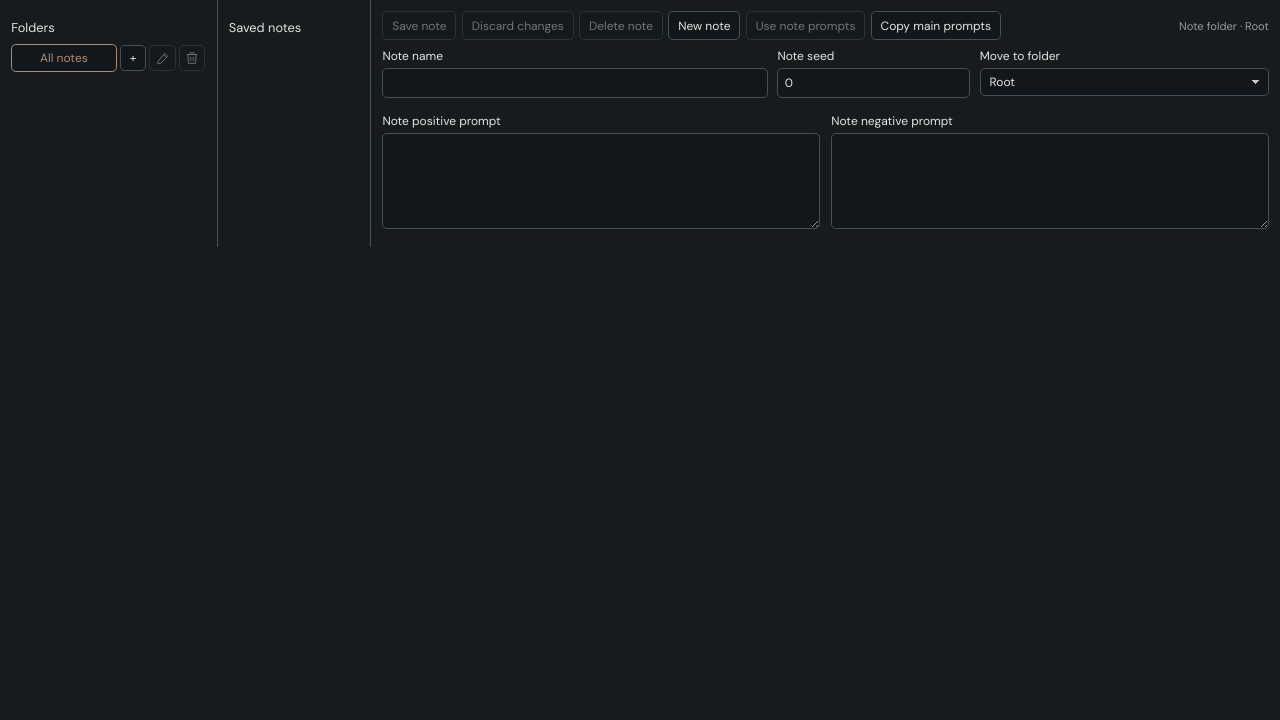
Test: creates nested folders and manually saves prompts/seed across restart; confirmed folder deletion includes descendants
Later steps or results of the test are not shown.
Click the button named "New folder": click(133, 58) [120,45,146,71]
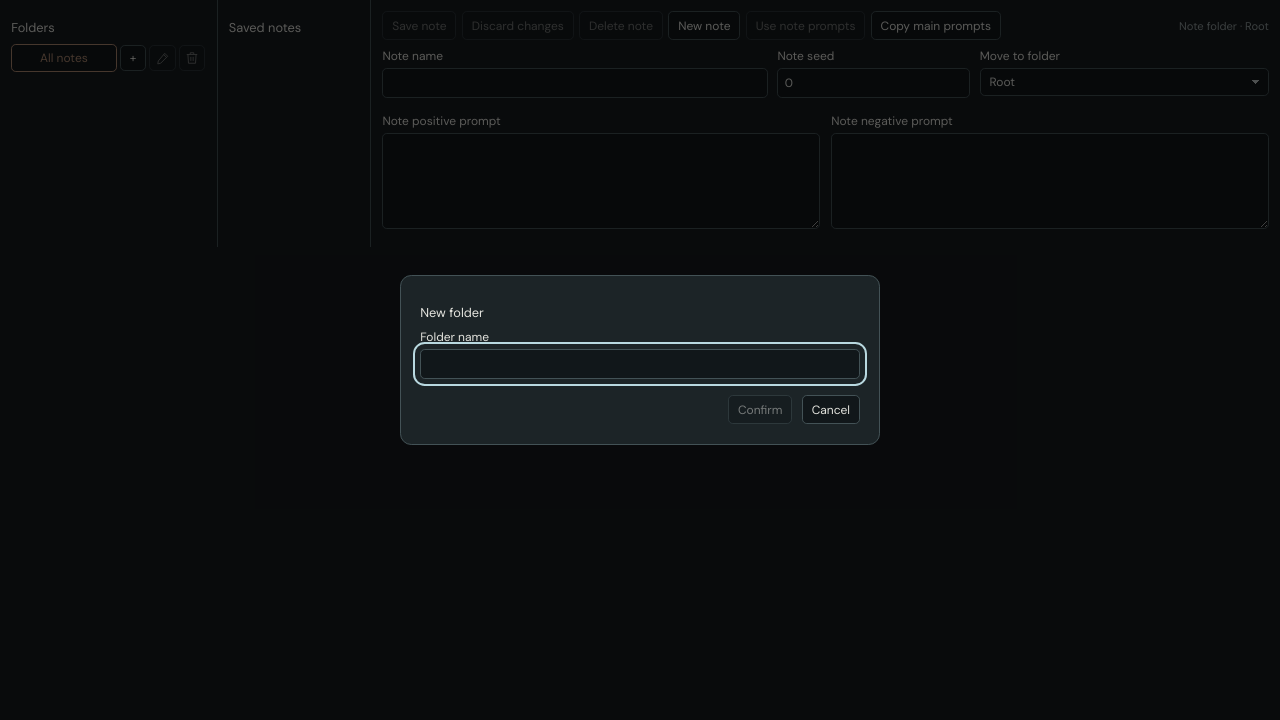
In the field labelled "Folder name": (640, 364) [420,348,860,379], type "Characters"
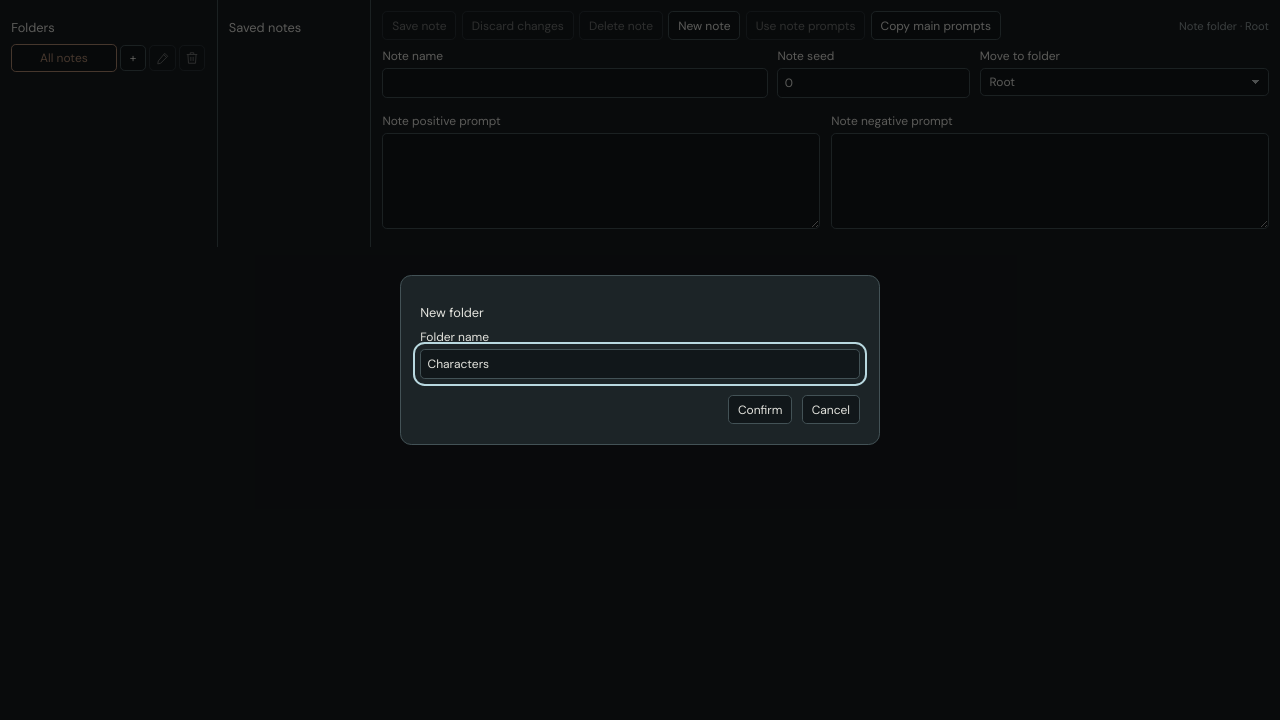
Click the button "Confirm": click(760, 410) [728,395,792,424]
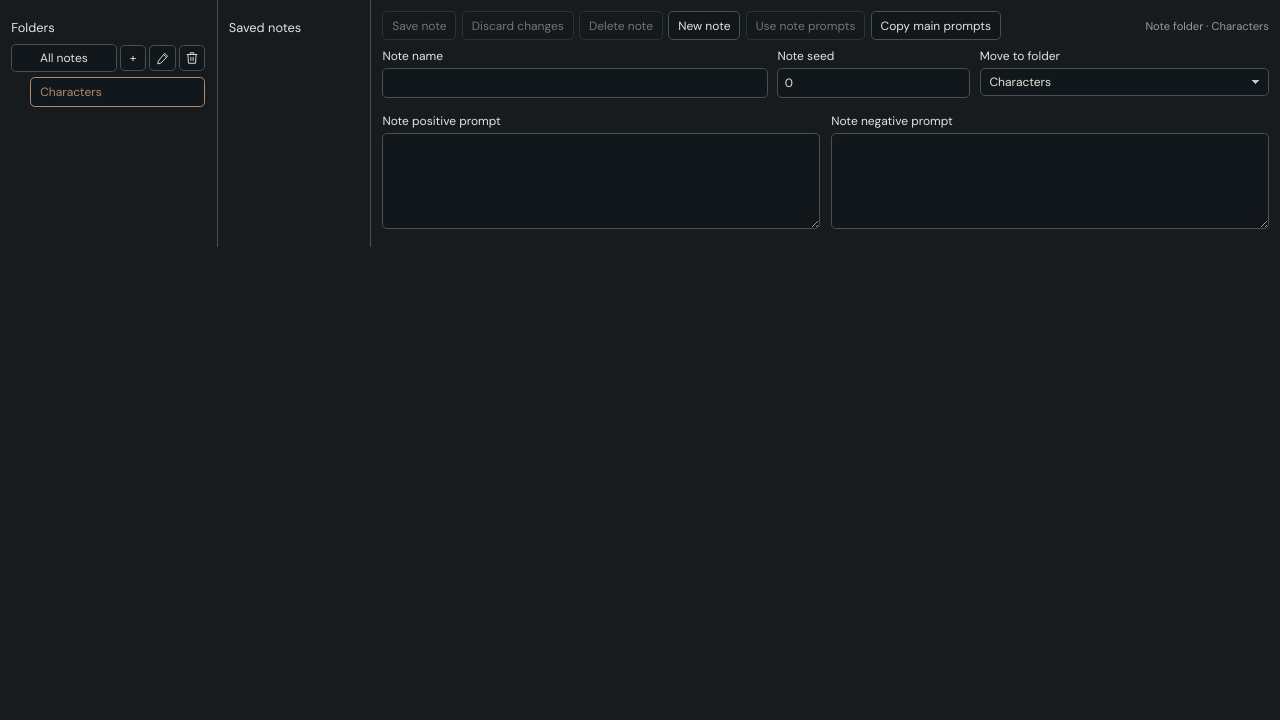
Click the button named "New folder": click(133, 58) [120,45,146,71]
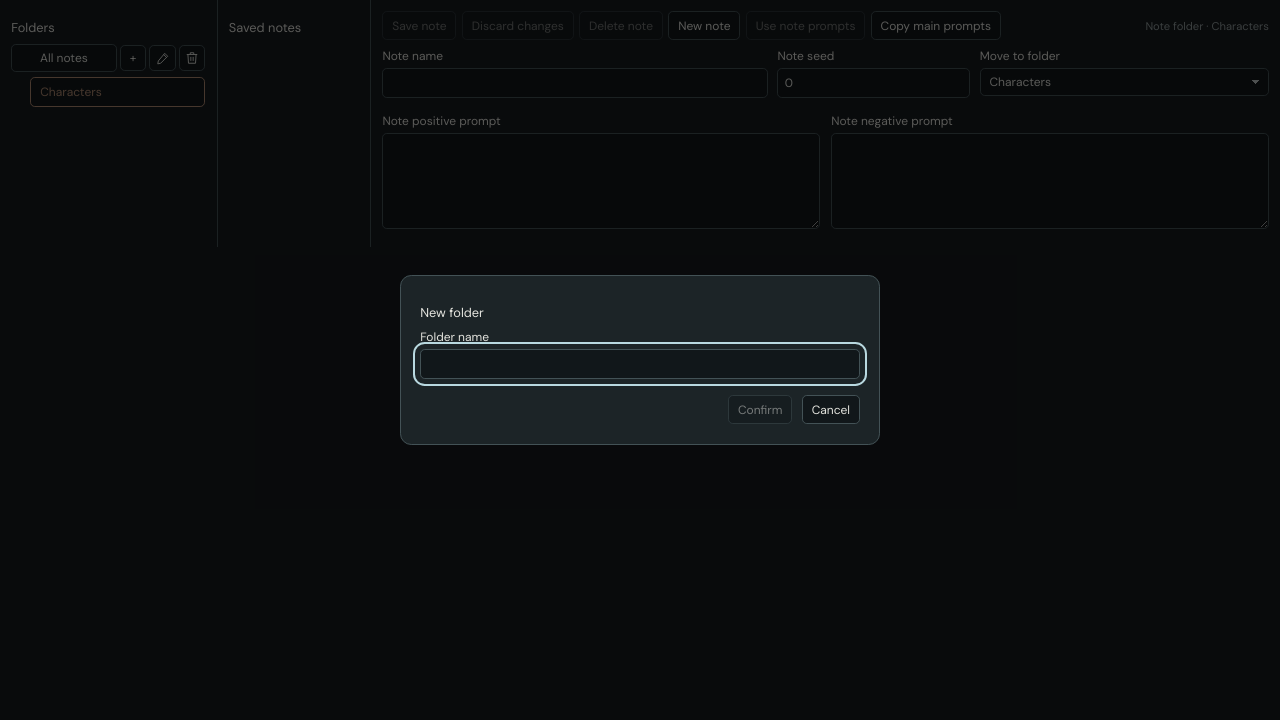
In the field labelled "Folder name": (640, 364) [420,348,860,379], type "Anima"
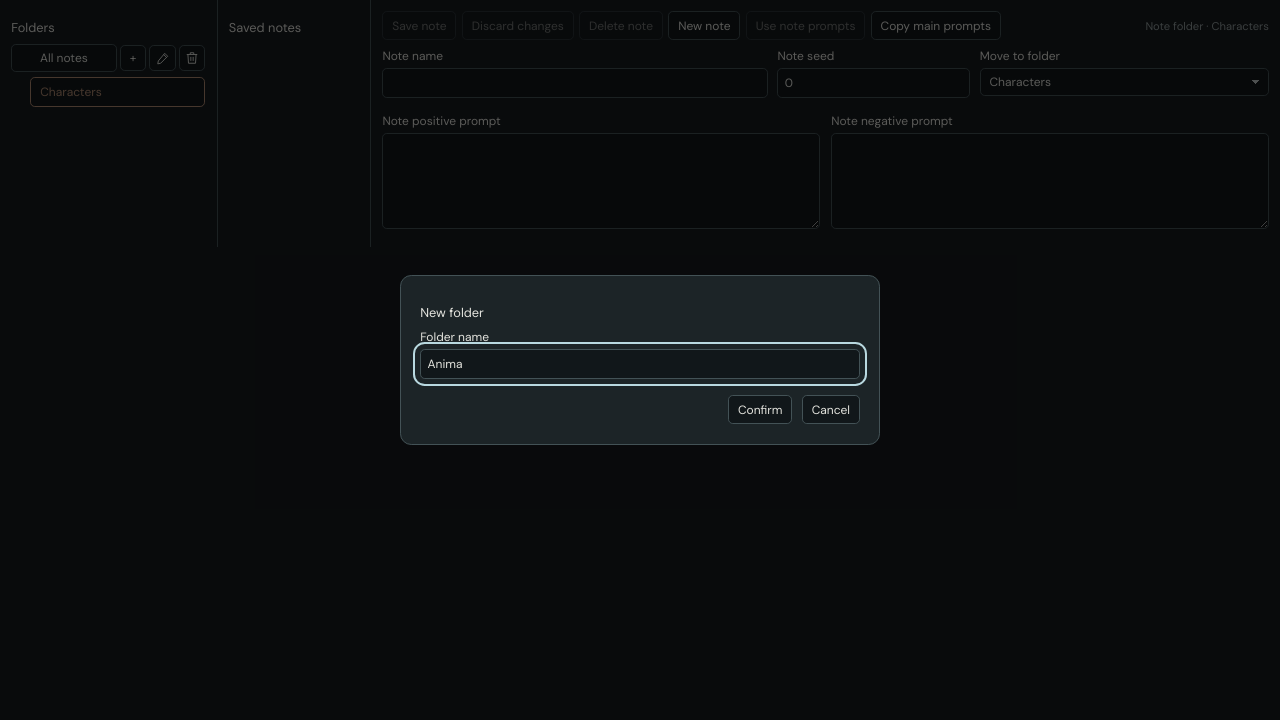
Click the button "Confirm": click(760, 410) [728,395,792,424]
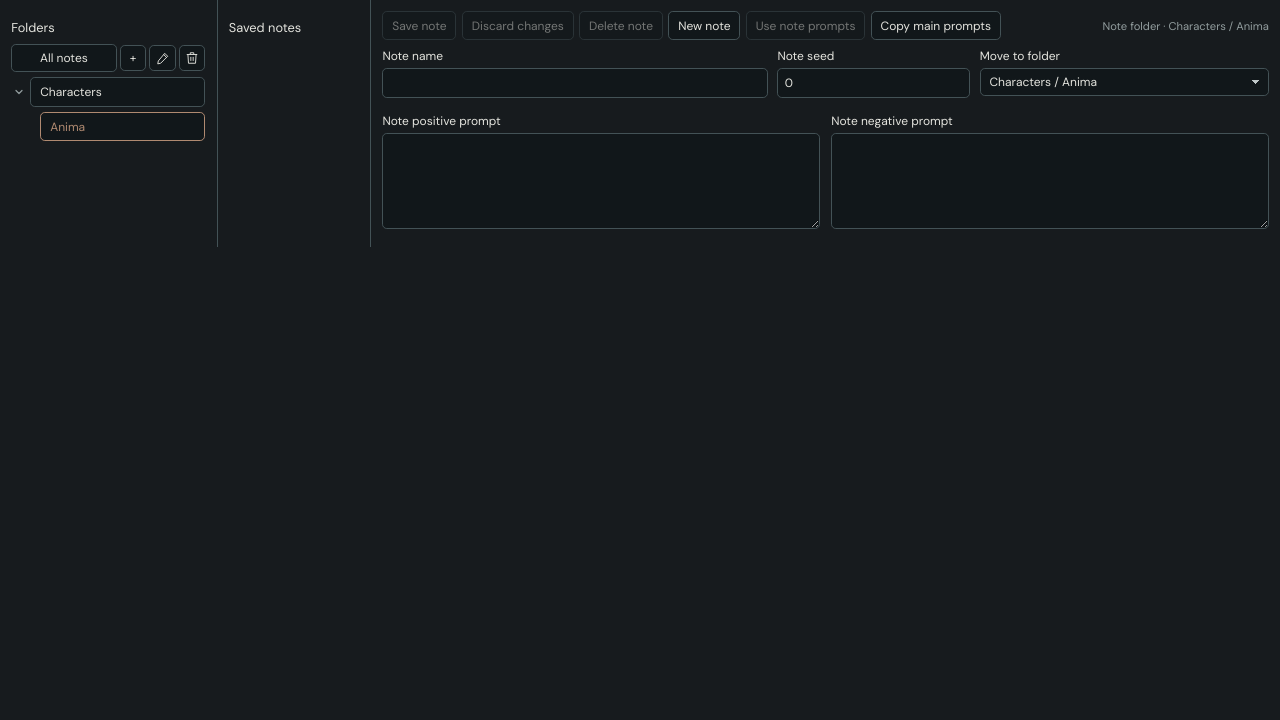
Check: the text "Note folder · Characters / Anima" is shown, box [1102,19,1269,33]
